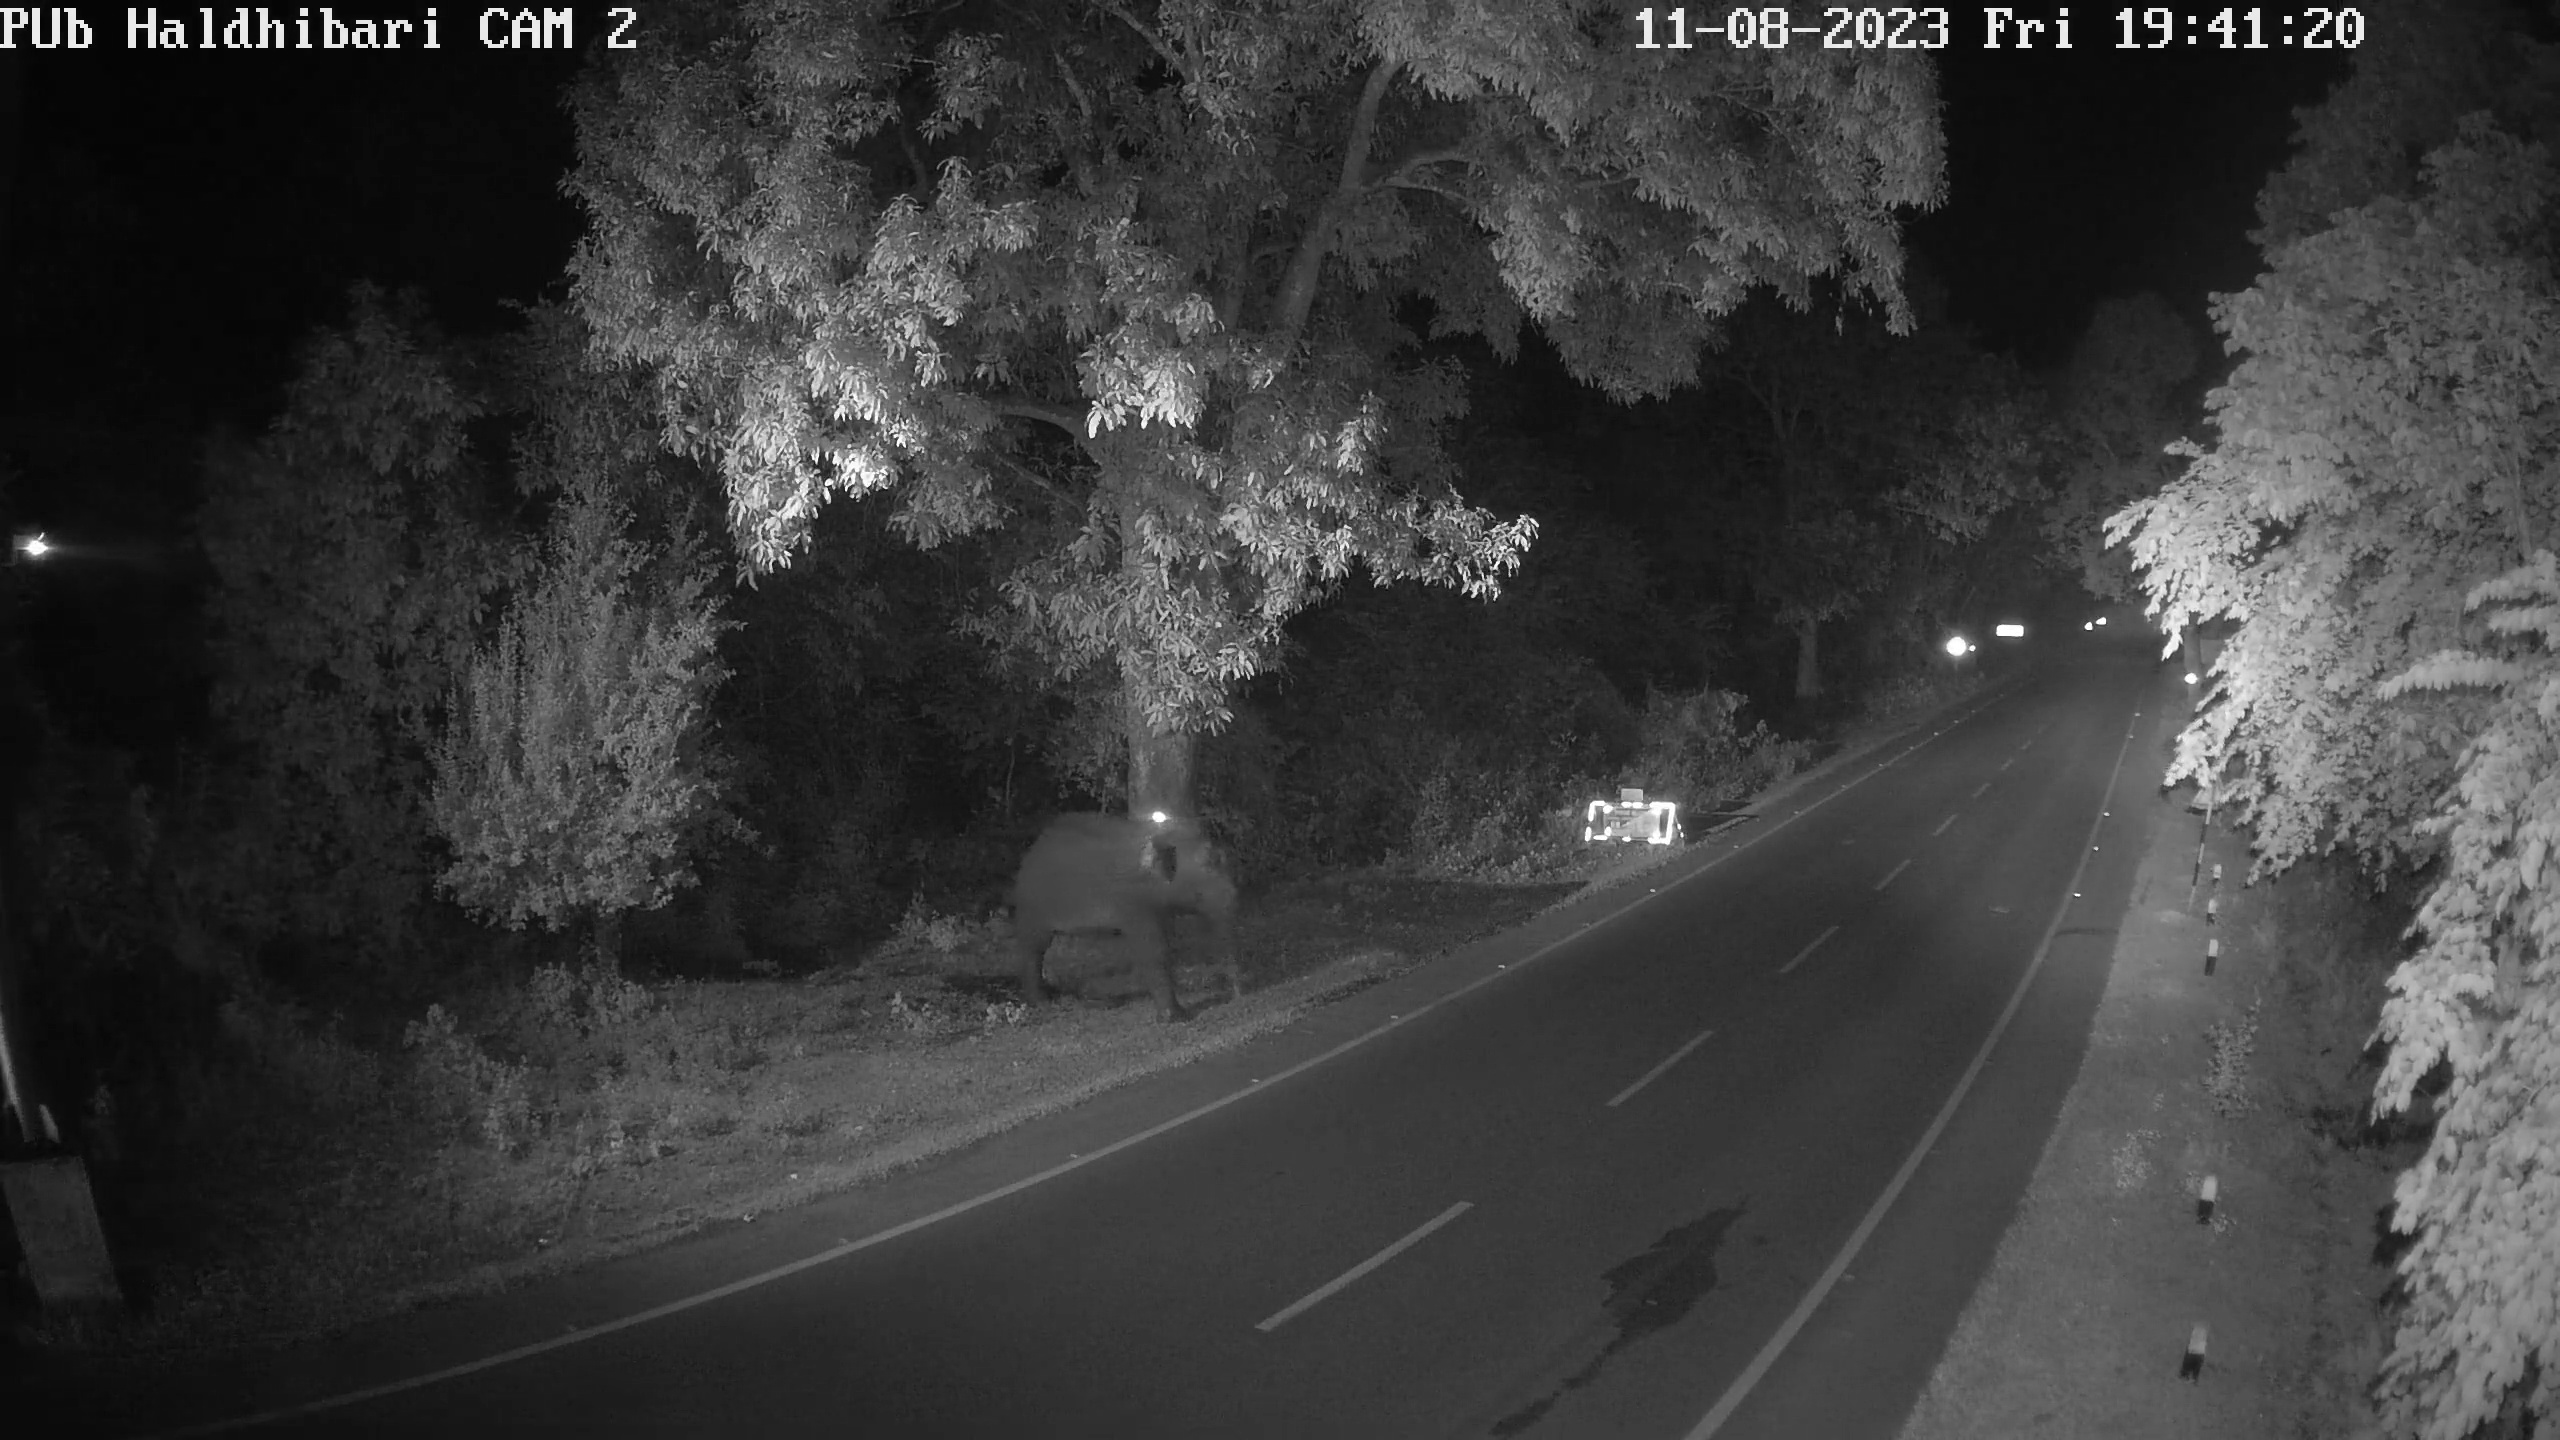elephants: (1016, 804, 1252, 1013)
